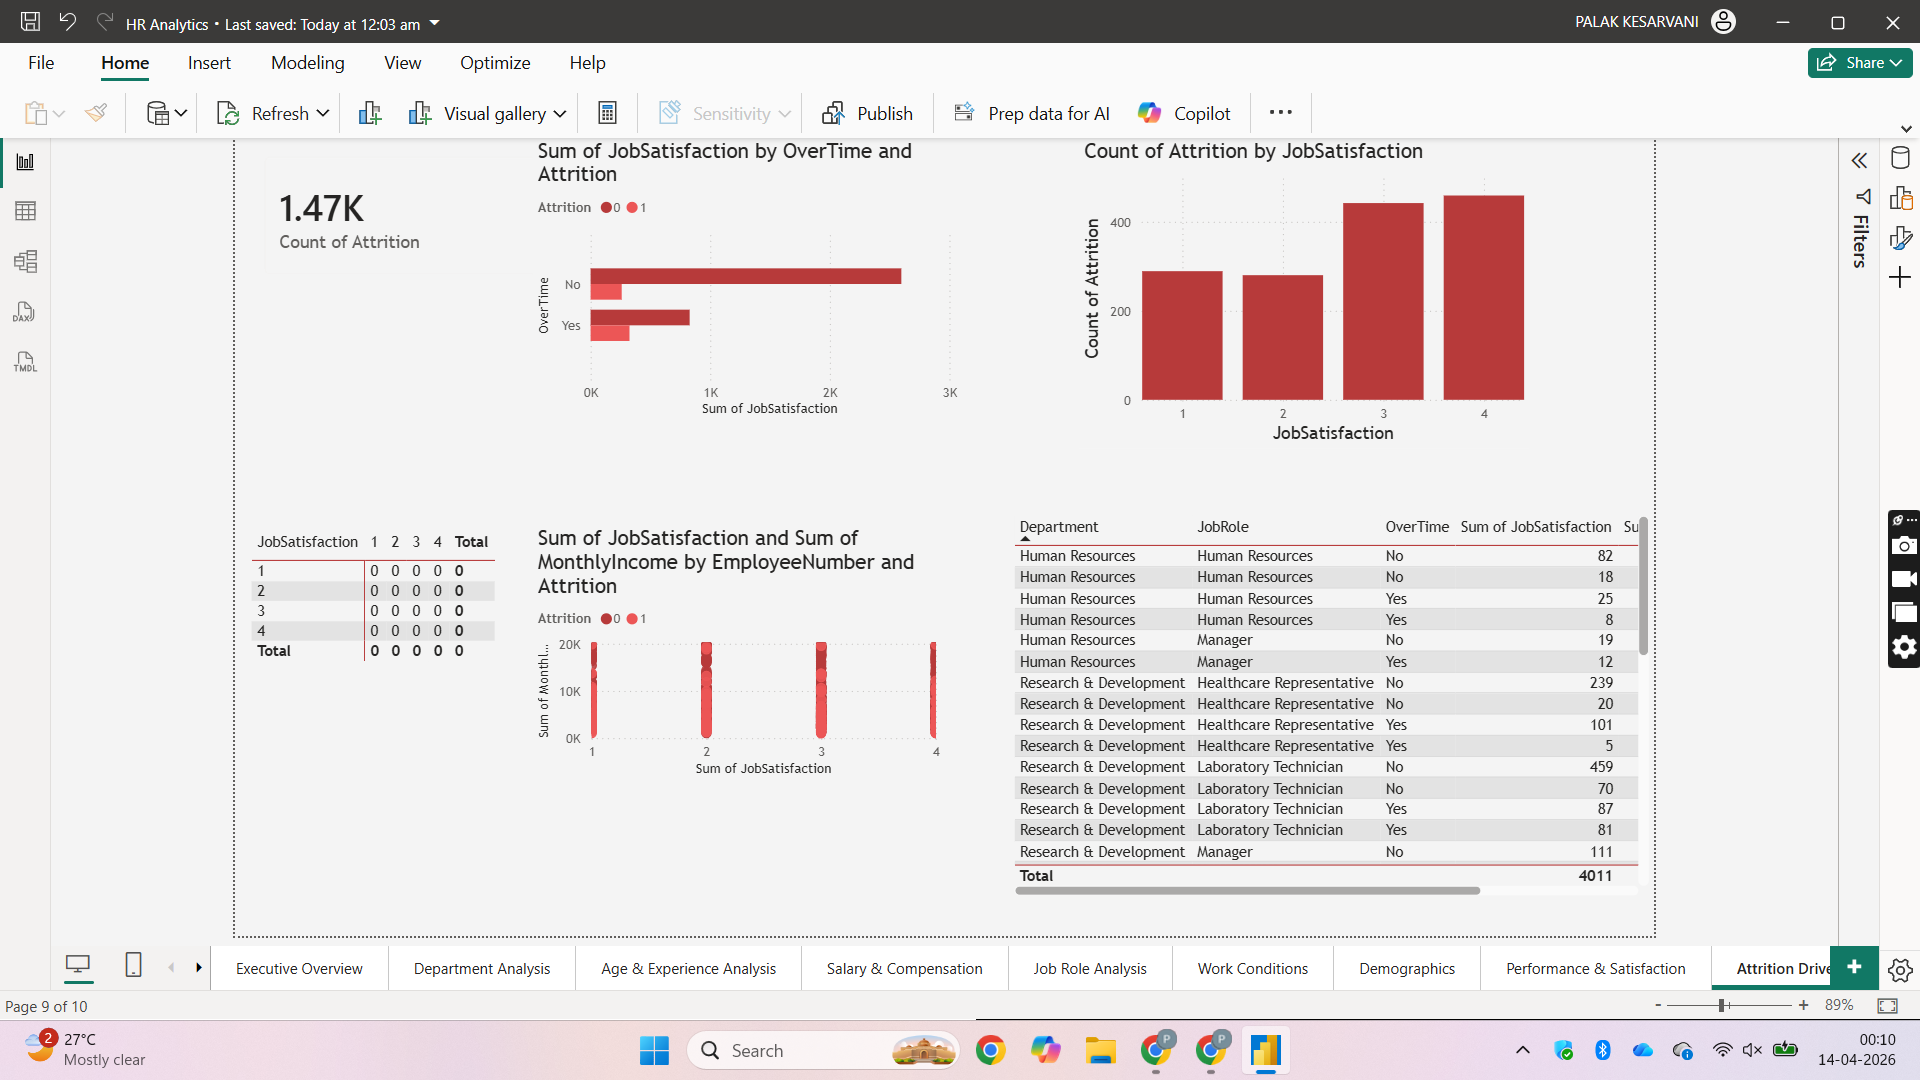

This screenshot's page, from the dashboard's own definition file:
{"tool":"powerbi","page":{"name":"Attrition Drivers","canvas":[1280,720],"ordinal":8},"visuals":[{"type":"cardVisual","fields":{"Data":["CountNonNull(cleaned_data.Attrition)"]},"box":[10.2,0,279.7,140.7],"z":0},{"type":"clusteredBarChart","fields":{"Category":["cleaned_data.OverTime"],"Y":["Sum(cleaned_data.JobSatisfaction)"],"Series":["cleaned_data.Attrition"]},"box":[267.8,0,388.1,255.9],"z":1000},{"type":"clusteredColumnChart","fields":{"Category":["cleaned_data.JobSatisfaction"],"Y":["CountNonNull(cleaned_data.Attrition)"]},"box":[761,0,406.8,279.7],"z":2000},{"type":"pivotTable","fields":{"Rows":["cleaned_data.JobSatisfaction"],"Columns":["cleaned_data.WorkLifeBalance"],"Values":["Min(cleaned_data.Attrition)"]},"box":[10.2,349.2,235.6,181.4],"z":3000},{"type":"scatterChart","fields":{"X":["Sum(cleaned_data.JobSatisfaction)"],"Y":["Sum(cleaned_data.MonthlyIncome)"],"Category":["cleaned_data.EmployeeNumber"],"Series":["cleaned_data.Attrition"]},"box":[267.8,349.2,372.9,230.5],"z":4000},{"type":"tableEx","fields":{"Values":["cleaned_data.Department","cleaned_data.JobRole","cleaned_data.OverTime","Sum(cleaned_data.JobSatisfaction)","Sum(cleaned_data.MonthlyIncome)","cleaned_data.Attrition"]},"box":[696.6,335.6,583.1,352.5],"z":5000}]}

Visuals, with their boxes on the page's 1280x720 design canvas (x1, y1, x2, y2). These are canvas units, not pixel positions in the 1920x1080 screenshot, which may show the page scaled, cropped or inside an application window:
cardVisual - CountNonNull(cleaned_data.Attrition): 10, 0, 290, 141
clusteredBarChart - cleaned_data.OverTime x Sum(cleaned_data.JobSatisfaction): 268, 0, 656, 256
clusteredColumnChart - cleaned_data.JobSatisfaction x CountNonNull(cleaned_data.Attrition): 761, 0, 1168, 280
pivotTable - cleaned_data.JobSatisfaction x cleaned_data.WorkLifeBalance: 10, 349, 246, 531
scatterChart - Sum(cleaned_data.JobSatisfaction) x Sum(cleaned_data.MonthlyIncome): 268, 349, 641, 580
tableEx - cleaned_data.Department x cleaned_data.JobRole: 697, 336, 1280, 688
